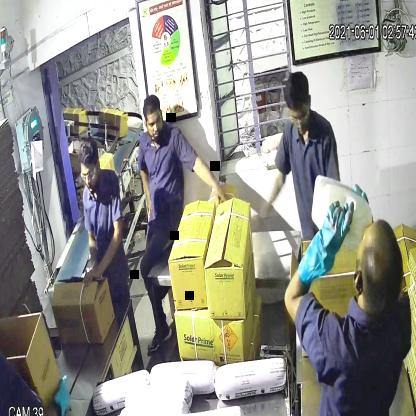goggles: (285, 105, 315, 130), (78, 164, 103, 186)
